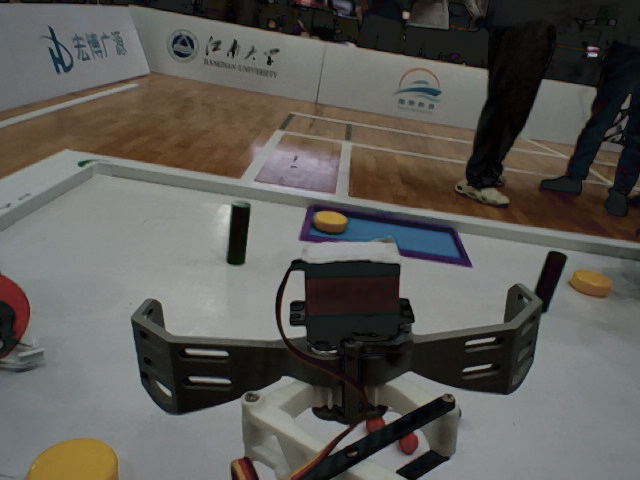kuang: (287, 199, 482, 279)
yellow: (22, 431, 139, 480), (572, 259, 620, 298), (306, 207, 353, 234)
zhuzi: (529, 239, 566, 319), (225, 196, 254, 269)
